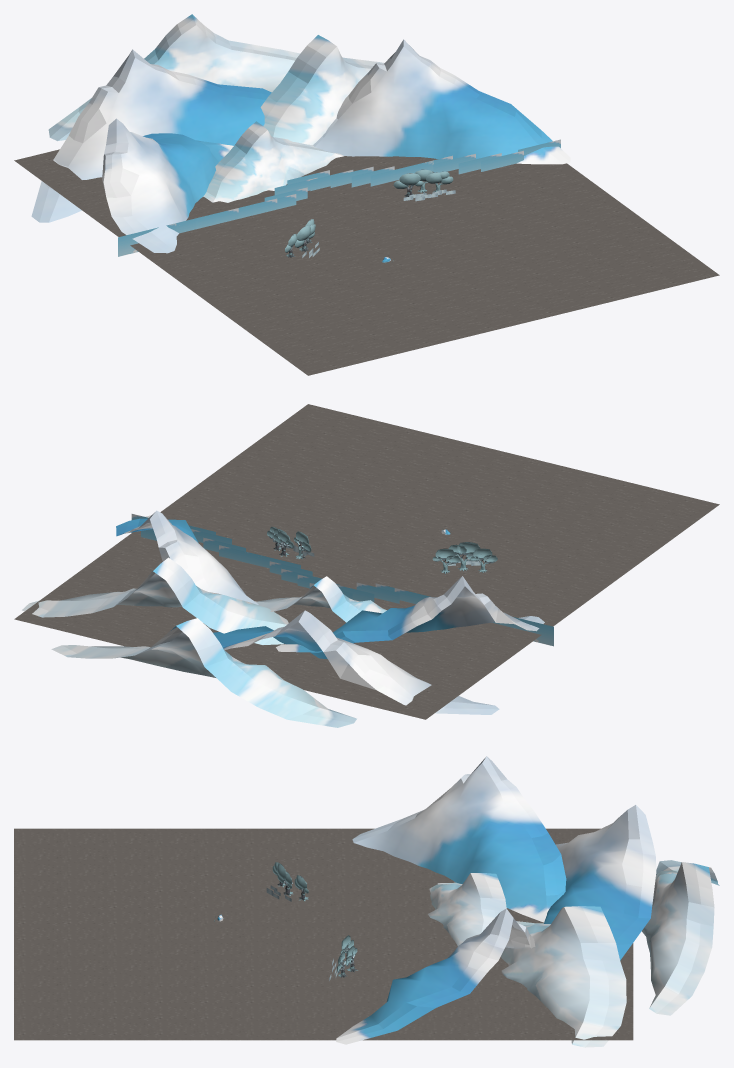
Rendered from 326_bg_grassG.fbx.
3 renders of one model, top to bottom at view 1: azimuth 30°, elevation 25°; view 2: azimuth 150°, elevation 25°; view 3: azimuth 270°, elevation 25°, orthographic. The views are drawn at different scales.
Visible parts, largest first — view 1: ground, polySurface1, polySurface17, polySurface18, polySurface19, polySurface20, polySurface16; view 2: ground, polySurface20, polySurface19, polySurface17, polySurface18, polySurface1, polySurface16; view 3: ground, polySurface18, polySurface19, polySurface17, polySurface20, polySurface1, polySurface16.
Part boxes in pixels (x1=…): ground: x1=14, y1=149, x2=719, y2=375; polySurface1: x1=313, y1=39, x2=570, y2=164; polySurface17: x1=31, y1=49, x2=271, y2=222; polySurface18: x1=102, y1=118, x2=233, y2=253; polySurface19: x1=260, y1=35, x2=384, y2=144; polySurface20: x1=48, y1=14, x2=300, y2=141; polySurface16: x1=203, y1=121, x2=343, y2=202; ground: x1=14, y1=404, x2=719, y2=719; polySurface20: x1=51, y1=618, x2=356, y2=727; polySurface19: x1=22, y1=557, x2=288, y2=644; polySurface17: x1=213, y1=610, x2=499, y2=714; polySurface18: x1=276, y1=576, x2=544, y2=652; polySurface1: x1=116, y1=510, x2=258, y2=604; polySurface16: x1=255, y1=576, x2=386, y2=622; ground: x1=14, y1=828, x2=633, y2=1040; polySurface18: x1=352, y1=756, x2=566, y2=922; polySurface19: x1=501, y1=906, x2=626, y2=1047; polySurface17: x1=544, y1=805, x2=656, y2=960; polySurface20: x1=642, y1=860, x2=719, y2=1015; polySurface1: x1=336, y1=908, x2=535, y2=1044; polySurface16: x1=428, y1=873, x2=506, y2=945.
Bounding box in the file's own units: 5571 × 1254 × 7272.
